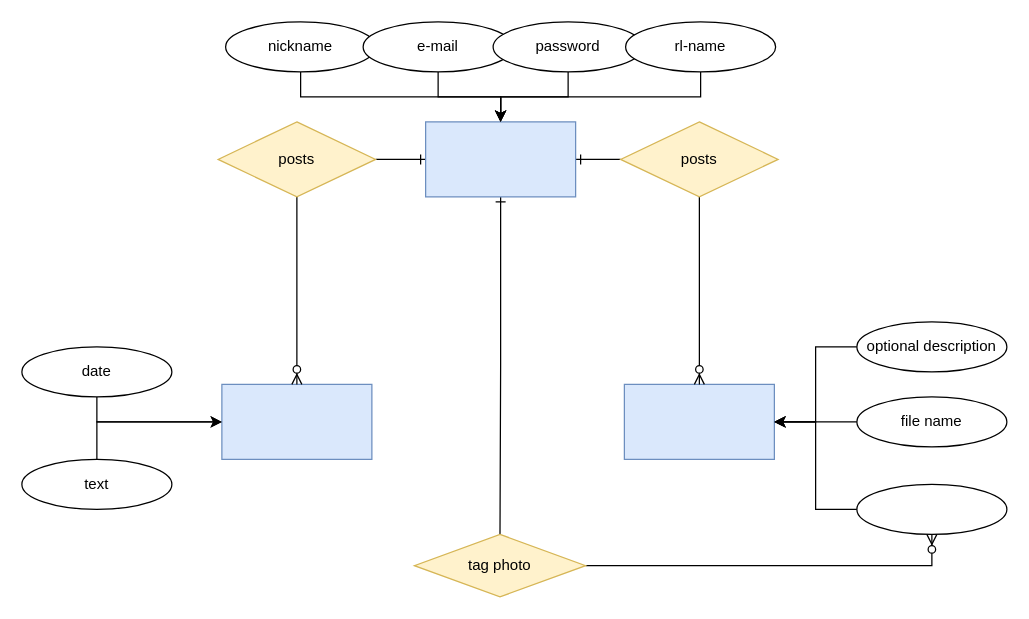
The diagram is 1029 pixels wide and 619 high, and some of its shapes have lost their labels. Here are the shapes that lost their labels. From the top down, the box of each, then its label:
(424, 121, 576, 197): user_profile
(221, 383, 372, 459): comments
(623, 383, 774, 459): photos
(856, 483, 1007, 534): tag frame
